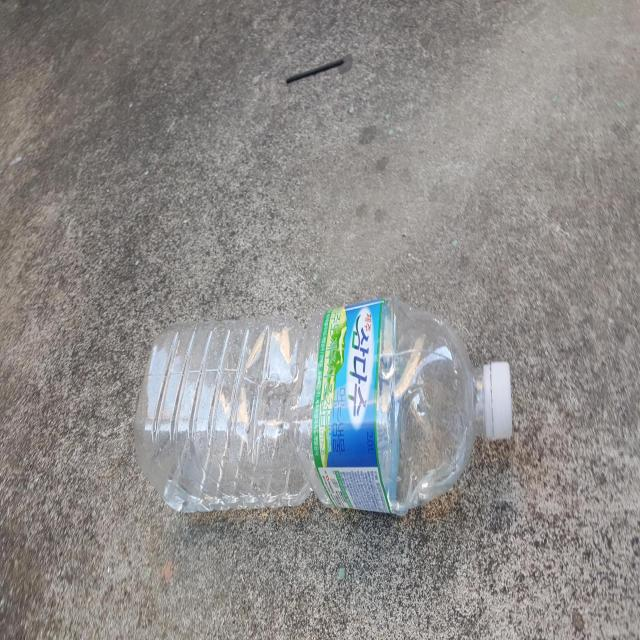plastic: (135, 296, 513, 515)
